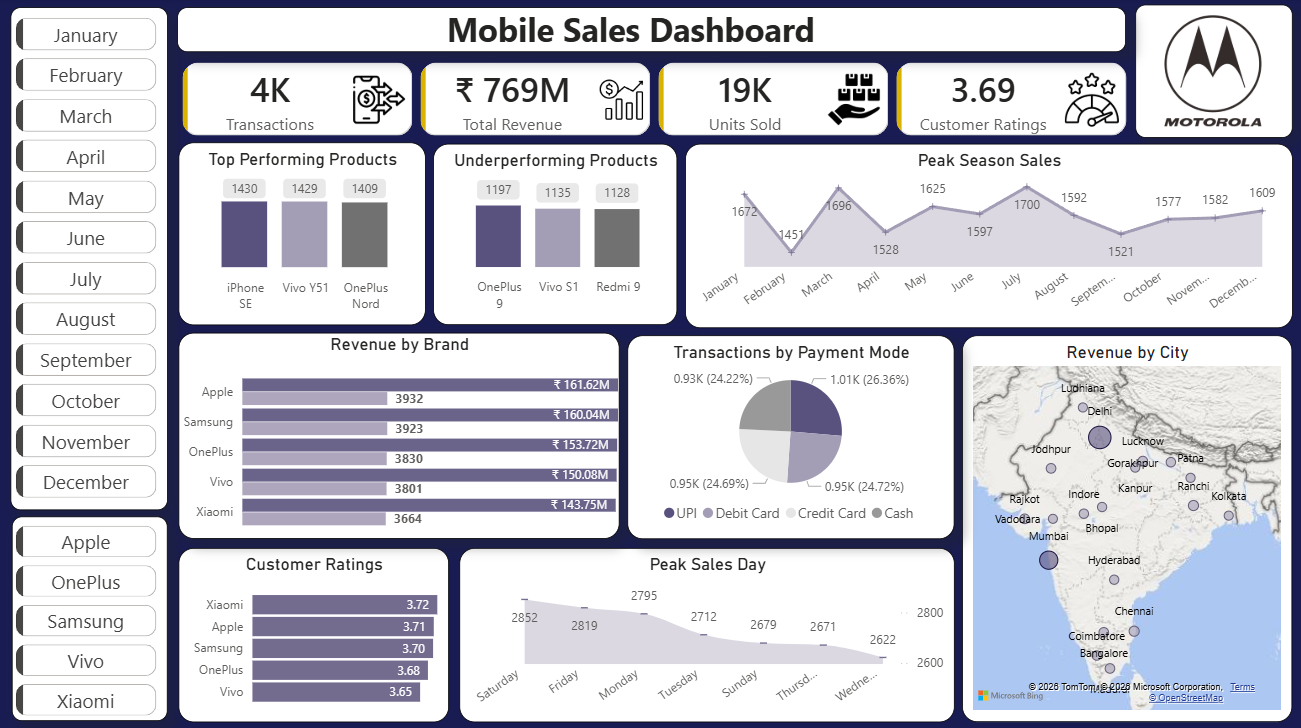

The page's visual inventory and layout, read from the dashboard file:
{"tool":"powerbi","page":{"name":"Dashboard","canvas":[1280,720],"ordinal":0},"visuals":[{"type":"shape","box":[1115.4,6.2,154.4,131.3],"z":0,"group":"g1"},{"type":"shape","box":[10.3,9,154.8,494.1],"z":0},{"type":"shape","box":[11.4,510,152.9,201.4],"z":1000},{"type":"image","box":[1109.5,0,165.6,142.8],"z":1501,"group":"g1"},{"type":"group","id":"g1","title":"Group 1","box":[1109.5,0,166.4,139.3],"z":2000},{"type":"advancedSlicerVisual","fields":{"Values":["SalesData.Brand"]},"box":[10,512.9,148.6,198.6],"z":3000},{"type":"advancedSlicerVisual","fields":{"Values":["SalesData.Date.Variation.Date Hierarchy.Month"]},"box":[10.3,14.2,148.4,489],"z":4000},{"type":"cardVisual","fields":{"Data":["SalesData.Transactions","SalesData.Total_Revenue","Sum(SalesData.Units Sold)","Avg(SalesData.Customer Ratings)"]},"box":[174.2,58.1,941.8,82.6],"z":5000},{"type":"map","title":"Revenue by City","fields":{"Category":["SalesData.City"],"Size":["SalesData.Total_Revenue"]},"box":[945.7,331.4,324.3,380],"z":6000},{"type":"lineChart","title":"Peak Season Sales","fields":{"Category":["SalesData.Date.Variation.Date Hierarchy.Month","SalesData.Date.Variation.Date Hierarchy.Day"],"Y":["Sum(SalesData.Units Sold)"]},"box":[672.9,142.9,597.1,181.4],"z":7000},{"type":"clusteredBarChart","title":"Customer Ratings","fields":{"Category":["SalesData.Brand"],"Y":["Avg(SalesData.Customer Ratings)"]},"box":[175.7,540,265.7,171.4],"z":8000},{"type":"clusteredColumnChart","title":"Top Performing Products","fields":{"Category":["SalesData.Mobile Model"],"Y":["Sum(SalesData.Units Sold)"]},"box":[175.7,141.4,242.9,180],"z":9000},{"type":"lineChart","title":"Peak Sales Day","fields":{"Category":["SalesData.Day Name"],"Y2":["Sum(SalesData.Units Sold)"]},"box":[451.4,540,487.1,171.4],"z":10000},{"type":"shape","box":[173.6,9,932.7,43.9],"z":11000},{"type":"textbox","box":[375.4,9,489,43.9],"z":12000},{"type":"clusteredBarChart","title":"Revenue by Brand","fields":{"Y":["SalesData.Total_Revenue","Sum(SalesData.Units Sold)"],"Category":["SalesData.Brand"]},"box":[175.5,329,433.5,202.5],"z":13000},{"type":"clusteredColumnChart","title":"Underperforming Products","fields":{"Category":["SalesData.Mobile Model"],"Y":["Sum(SalesData.Units Sold)"]},"box":[425.7,142.9,240,178.6],"z":14000},{"type":"pieChart","title":"Transactions by Payment Mode","fields":{"Category":["SalesData.Payment Method"],"Y":["CountNonNull(SalesData.Transaction ID)"]},"box":[617.1,331.4,321.4,200],"z":15000}]}

Visuals, with their boxes in screenshot pixels (x1, y1, x2, y2), scaled from the page's 1280x720 canvas onto the 1301x728 screenshot:
shape: (x1=1134, y1=6, x2=1291, y2=139)
shape: (x1=10, y1=9, x2=168, y2=509)
shape: (x1=12, y1=516, x2=167, y2=719)
image: (x1=1128, y1=0, x2=1296, y2=144)
"Group 1" group: (x1=1128, y1=0, x2=1297, y2=141)
advancedSlicerVisual - SalesData.Brand: (x1=10, y1=519, x2=161, y2=719)
advancedSlicerVisual - SalesData.Date.Variation.Date Hierarchy.Month: (x1=10, y1=14, x2=161, y2=509)
cardVisual - SalesData.Transactions x SalesData.Total_Revenue: (x1=177, y1=59, x2=1134, y2=142)
"Revenue by City" map: (x1=961, y1=335, x2=1291, y2=719)
"Peak Season Sales" lineChart: (x1=684, y1=144, x2=1291, y2=328)
"Customer Ratings" clusteredBarChart: (x1=179, y1=546, x2=449, y2=719)
"Top Performing Products" clusteredColumnChart: (x1=179, y1=143, x2=425, y2=325)
"Peak Sales Day" lineChart: (x1=459, y1=546, x2=954, y2=719)
shape: (x1=176, y1=9, x2=1124, y2=53)
textbox: (x1=382, y1=9, x2=879, y2=53)
"Revenue by Brand" clusteredBarChart: (x1=178, y1=333, x2=619, y2=537)
"Underperforming Products" clusteredColumnChart: (x1=433, y1=144, x2=677, y2=325)
"Transactions by Payment Mode" pieChart: (x1=627, y1=335, x2=954, y2=537)
